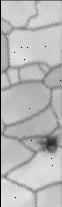good_void: (38, 130, 61, 154)
